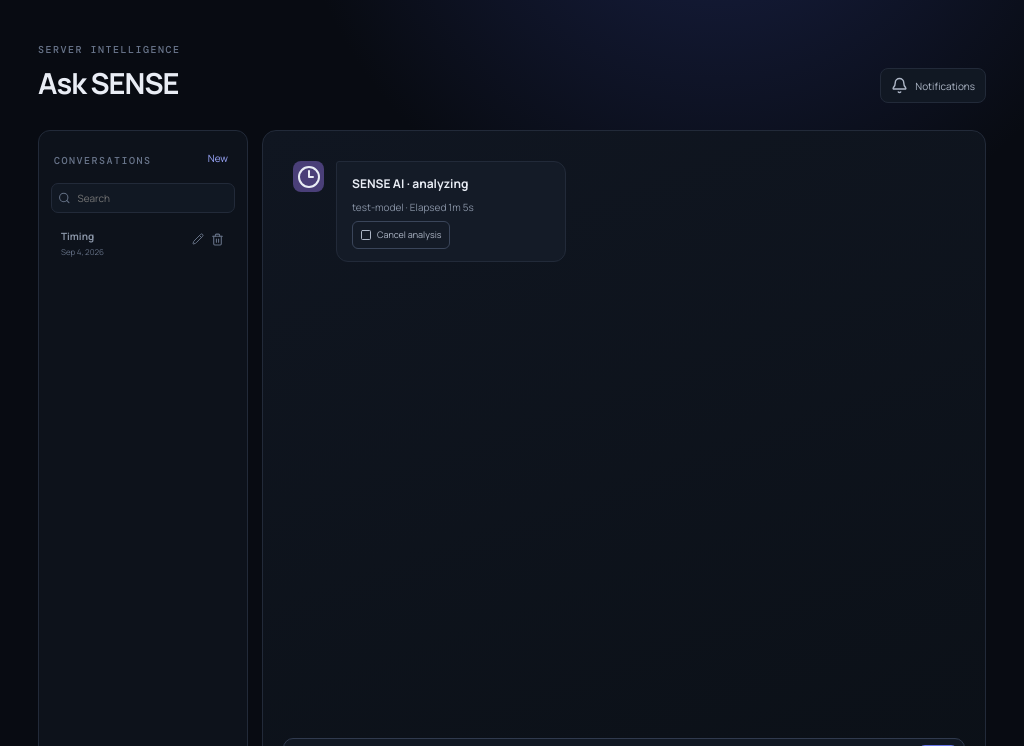
it: SENSE requests › pins elapsed time to ongoing and completed SENSE messages
Click the button "Timing Sep 4, 2026". click: [143, 243]
box: [51,219,235,267]
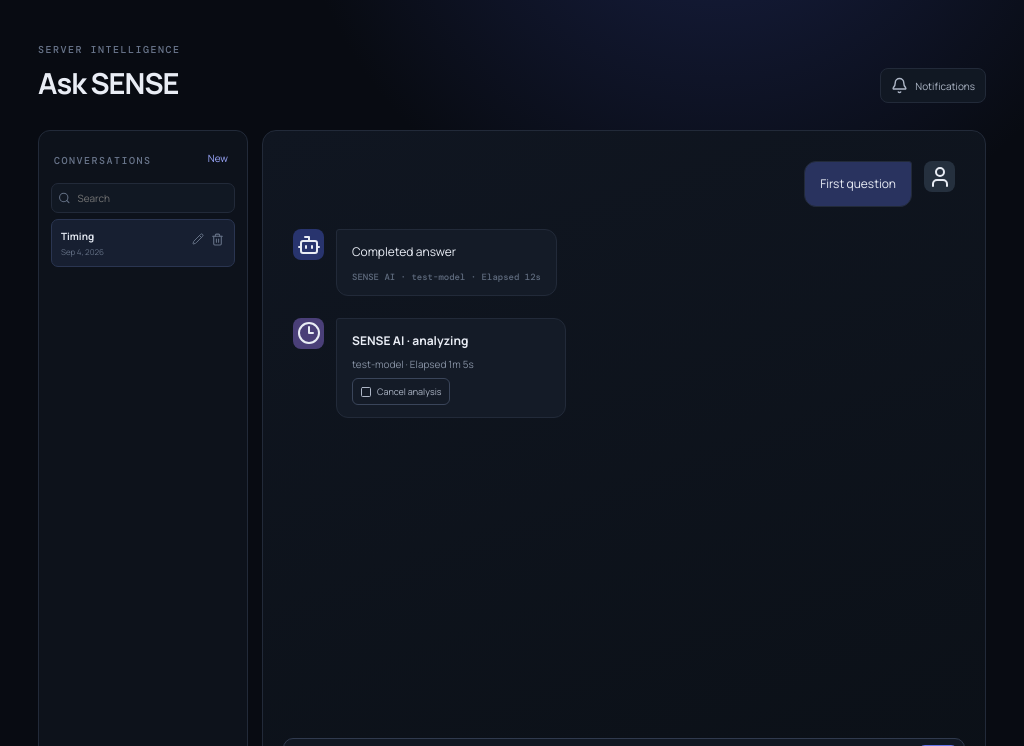
Expected: the text "test-model · Elapsed 1m 5s" is shown, [352,357,474,371]
Expected: the text "SENSE AI · test-model · Elapsed 12s" is shown, [352,271,541,283]
